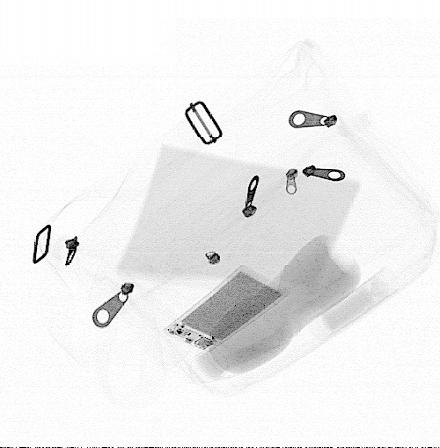Powerbank: (164, 265, 289, 354)
